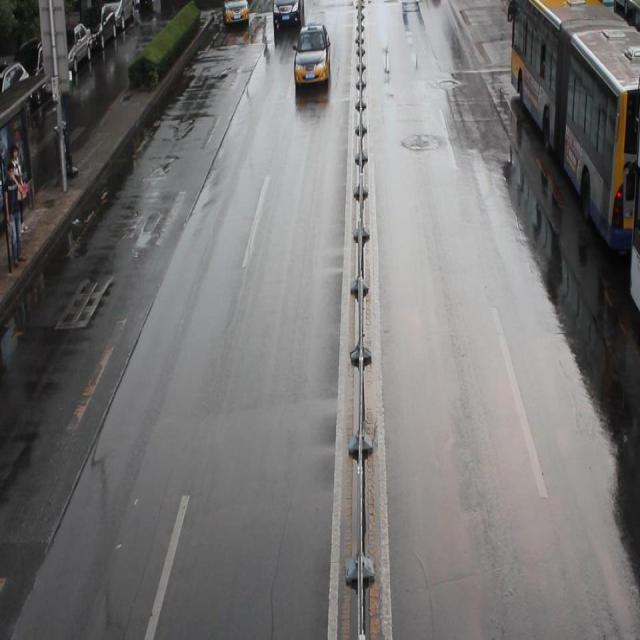car: (292, 24, 330, 86), (222, 1, 249, 29)
truck: (272, 2, 303, 34)
van: (509, 1, 640, 254), (628, 83, 640, 312)
